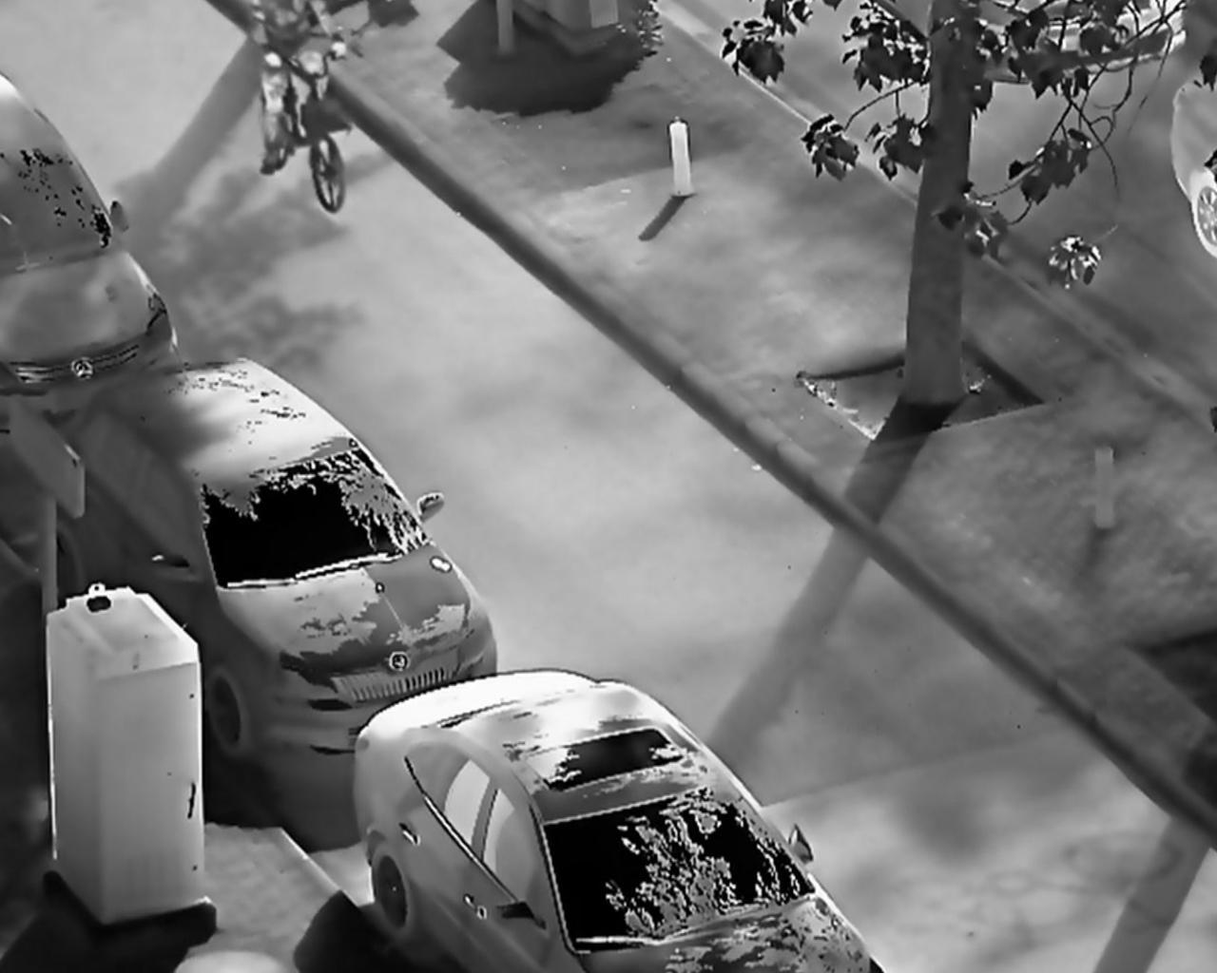person: (240, 2, 349, 179)
